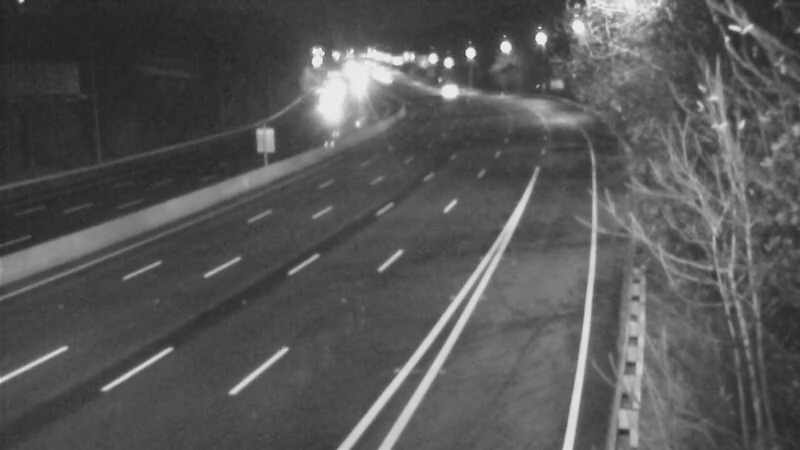vehicle: (423, 63, 473, 113), (305, 80, 355, 130)
